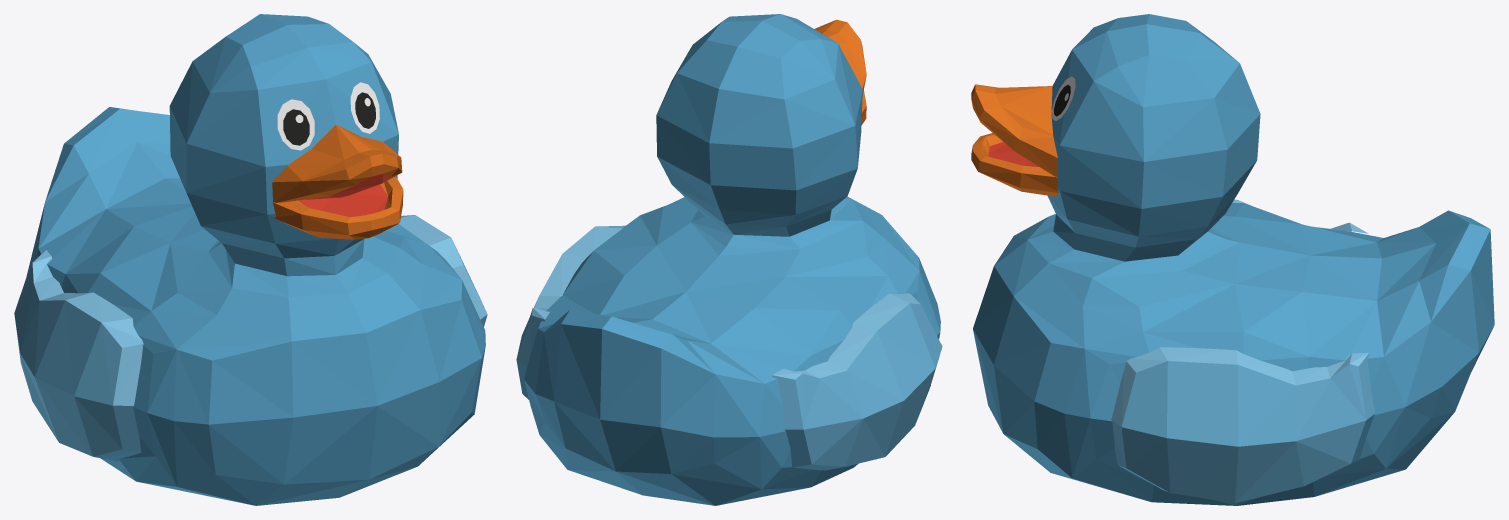
Rendered from rubberduckv4.gltf.
3 renders of one model, left to right at view 1: azimuth 30°, elevation 25°; view 2: azimuth 150°, elevation 25°; view 3: azimuth 270°, elevation 25°, orthographic. The views are drawn at different scales.
Visible parts, largest first — view 1: RubberDuck; view 2: RubberDuck; view 3: RubberDuck.
Part boxes in pixels (x1,y1,x2,y2): RubberDuck: (14,14,487,505); RubberDuck: (516,14,942,505); RubberDuck: (971,14,1494,505).
Bounding box in the file's own units: 1.36 × 1.43 × 1.56.
Materials: 1 (1 with a texture image).
